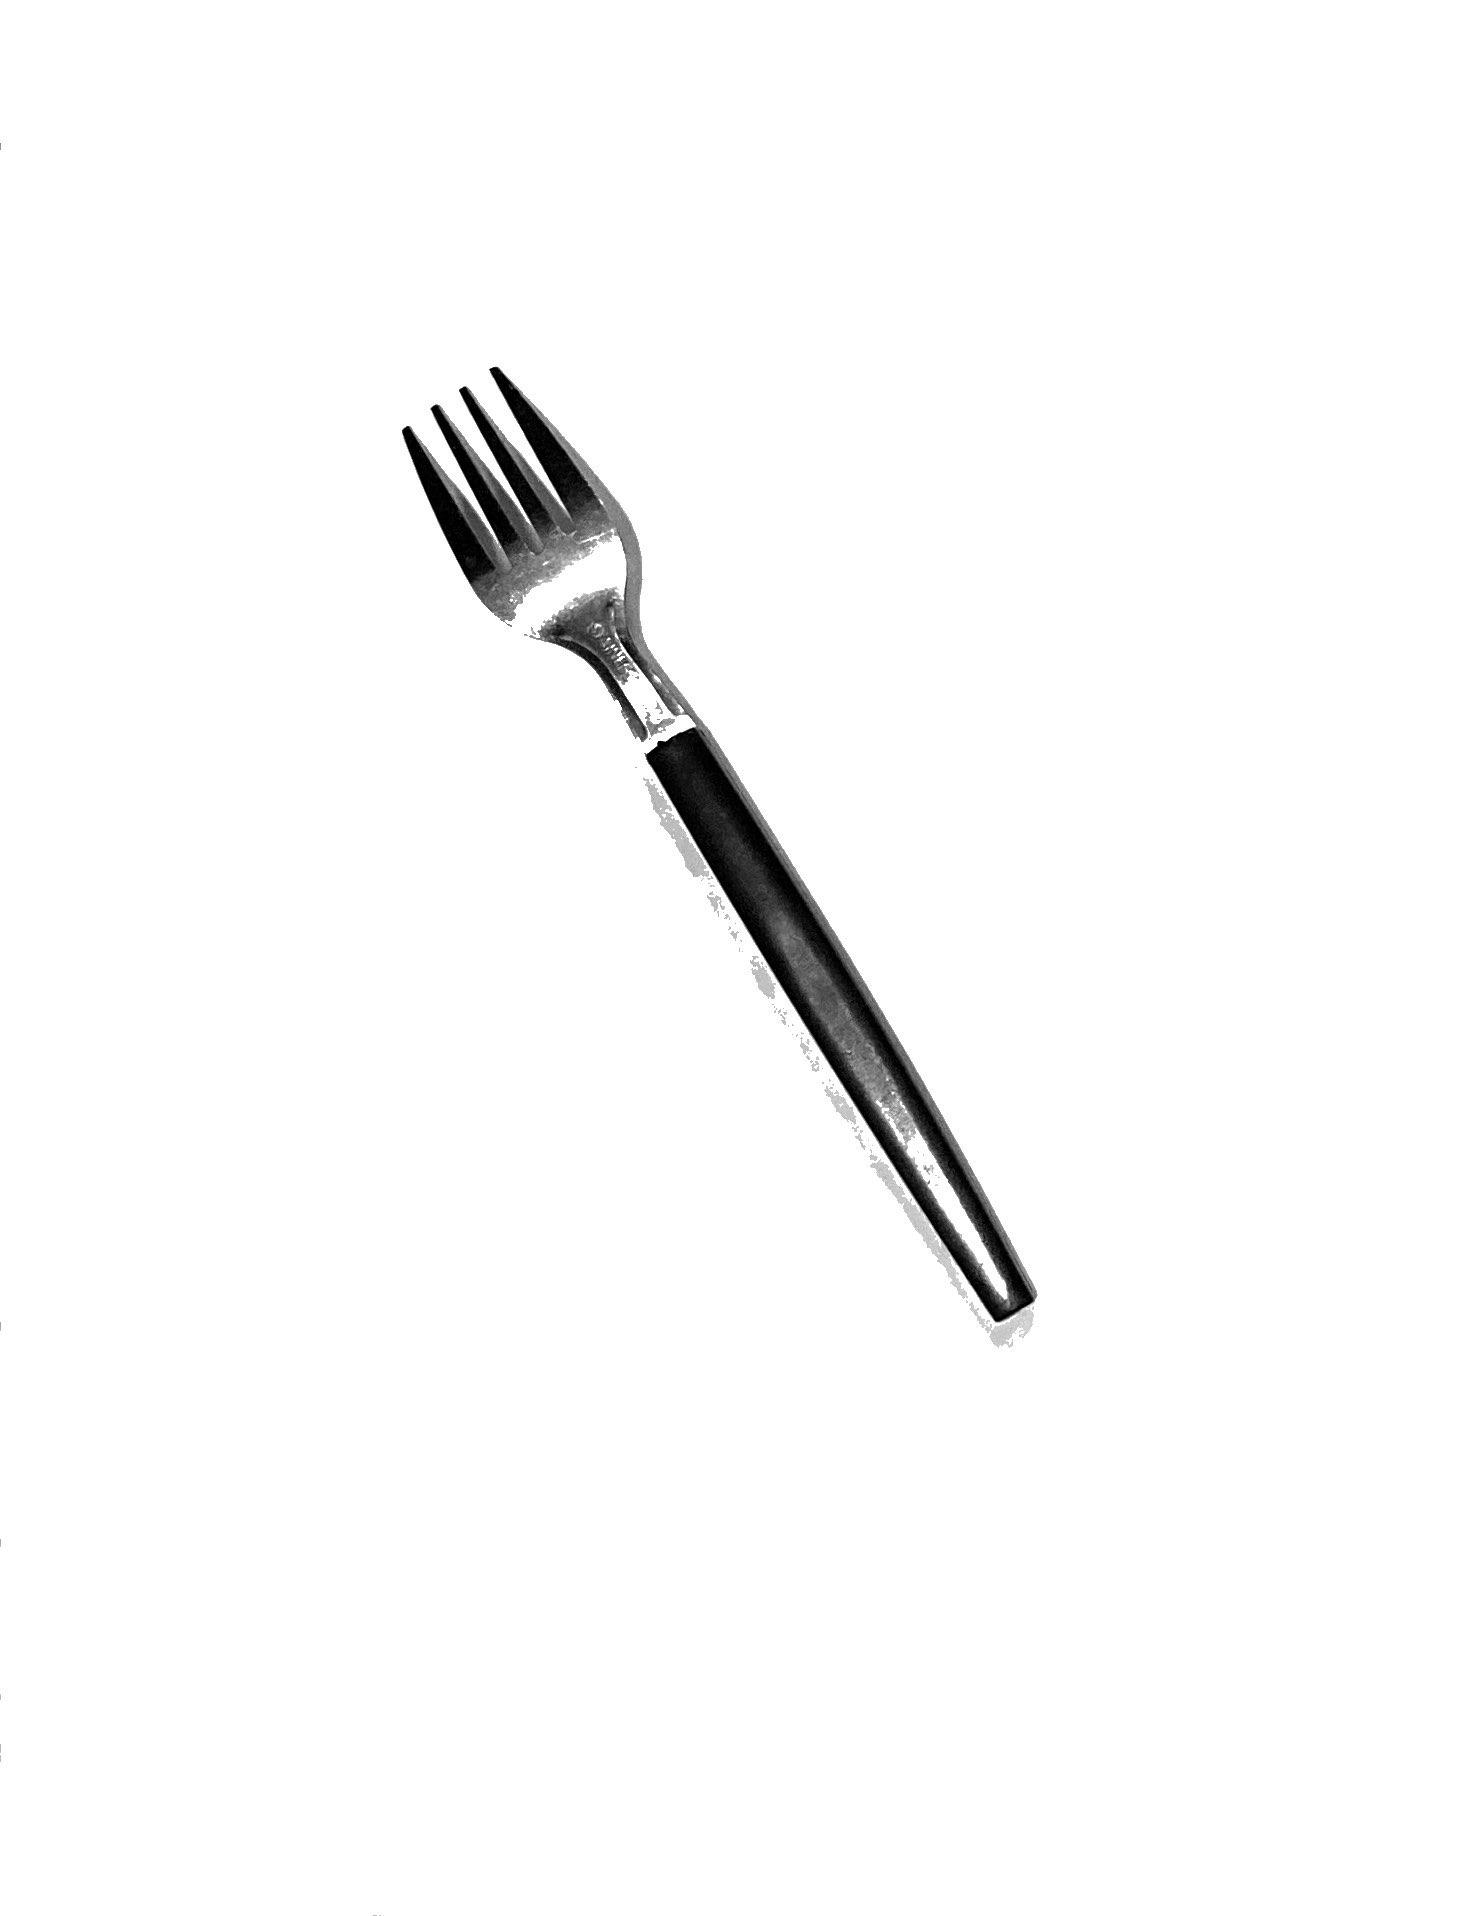Fork: (311, 331, 1274, 1433)
